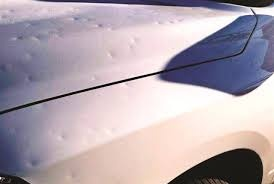Dent: (17, 12, 176, 83)
